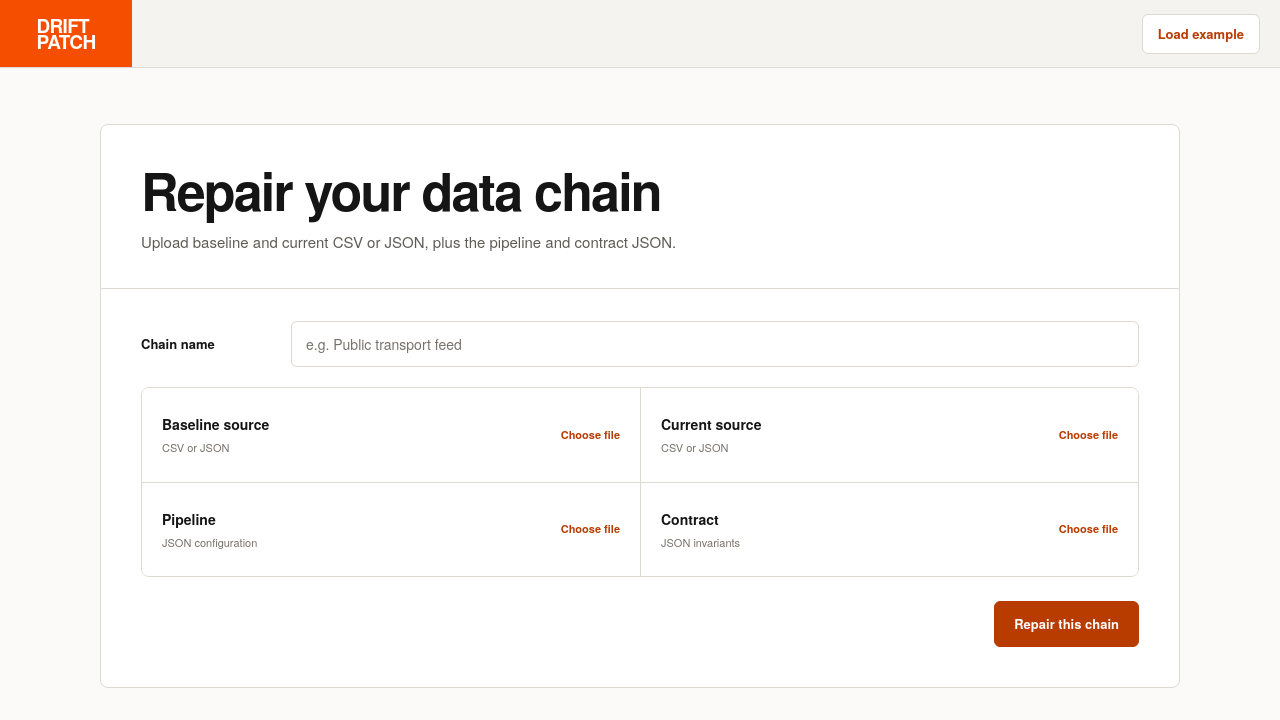
renders stable problem details returned by custom admission
Click the button "Load example". click: (1201, 34)
box: [1142,14,1260,54]
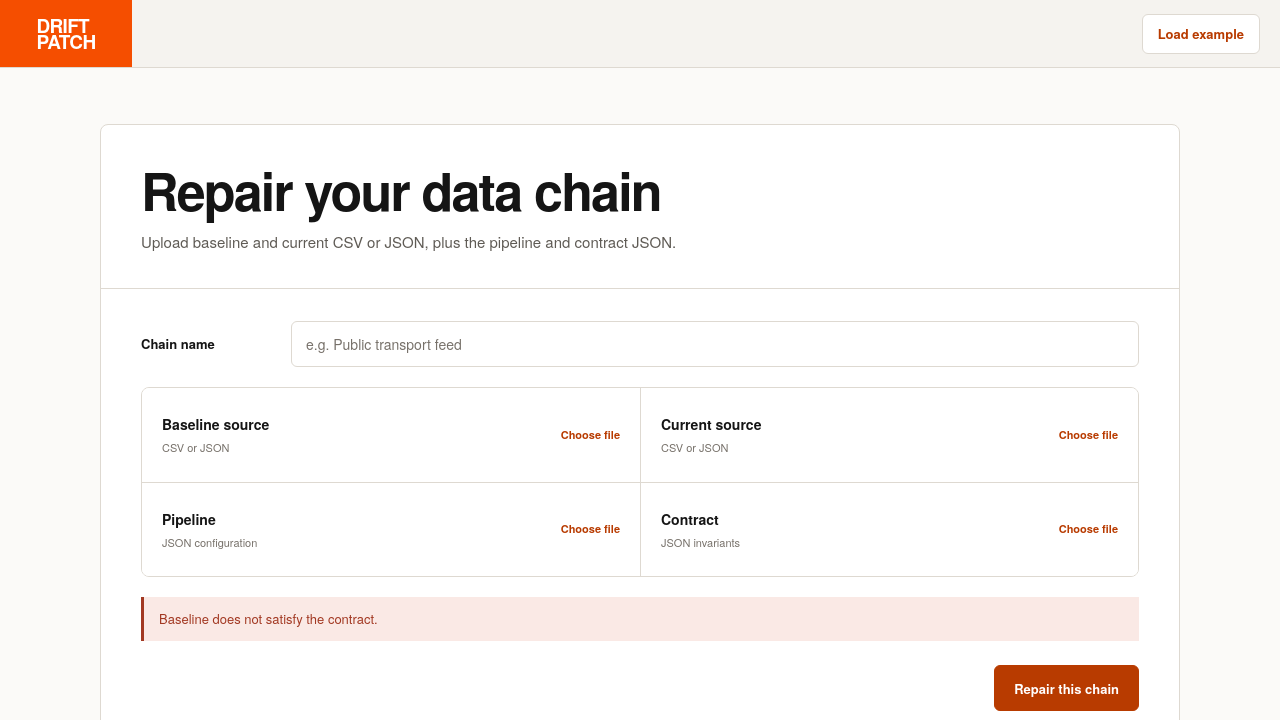
Now the message reads "Baseline does not satisfy the contract.", box [159,608,378,628]
